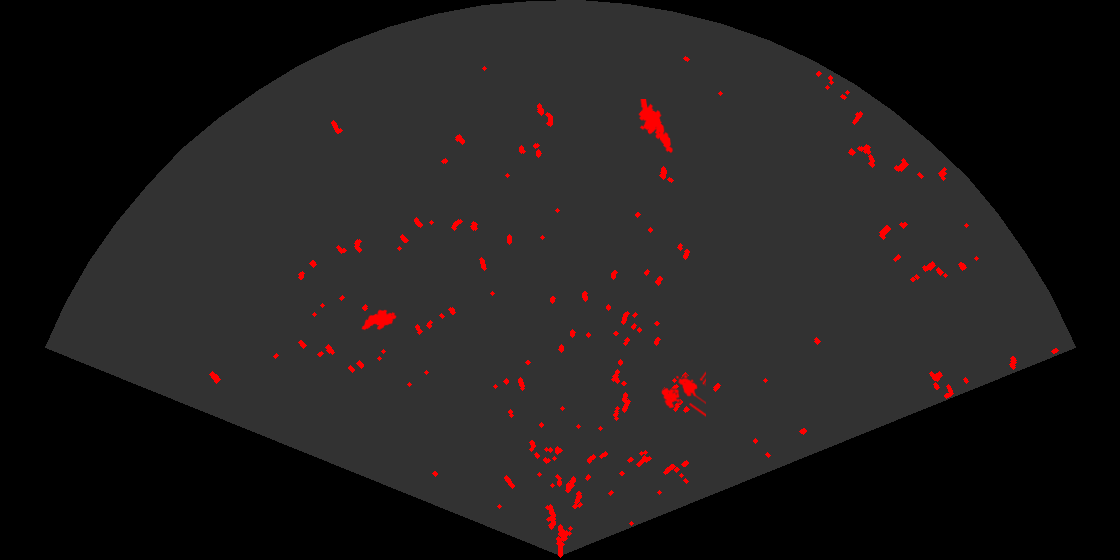AUV: (360, 308, 398, 332)
cage: (660, 370, 706, 419)
frogman: (637, 99, 674, 155)
